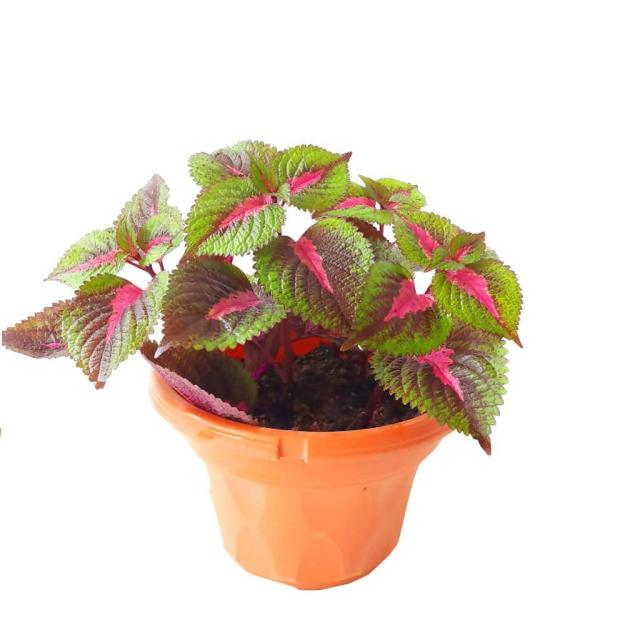Coleus: (7, 106, 575, 440)
